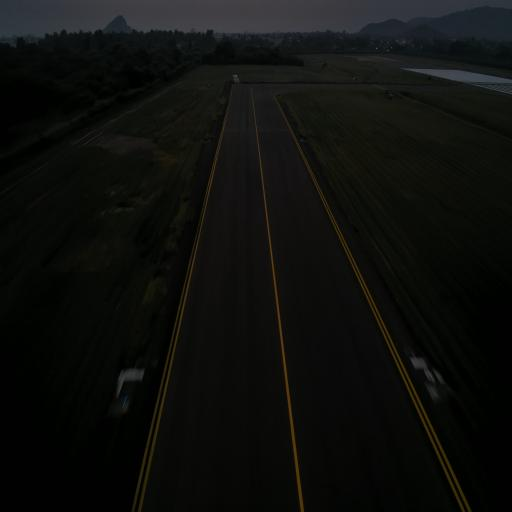on: (119, 392, 129, 411), (301, 136, 305, 142), (208, 137, 211, 142)
